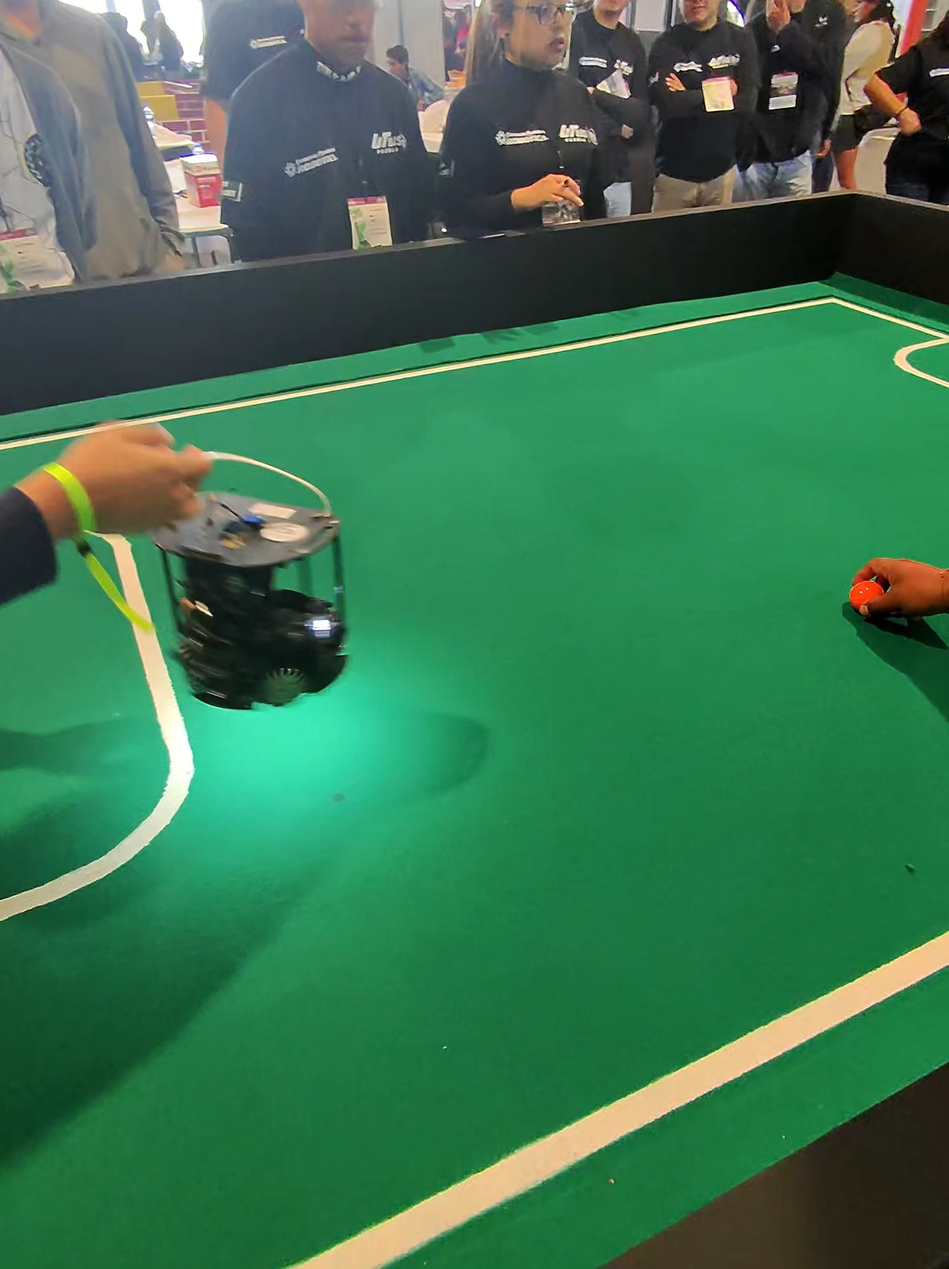Robot: (138, 482, 368, 735)
pelota: (830, 571, 896, 627)
